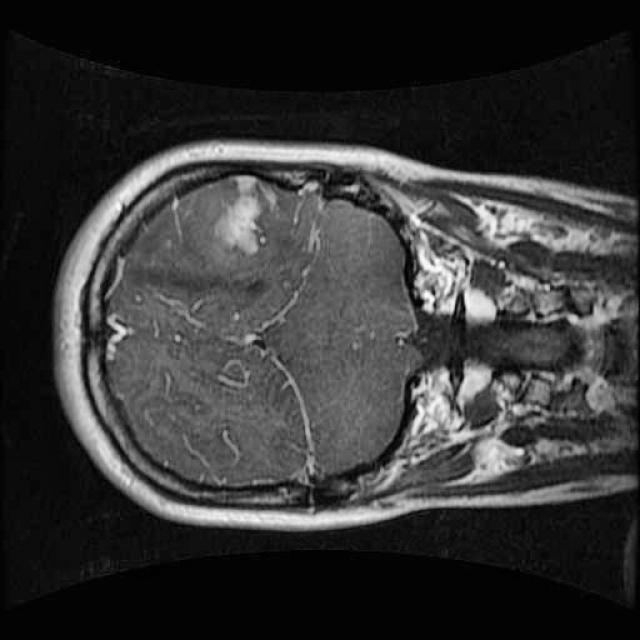Non-Tumor: (192, 160, 289, 272)
